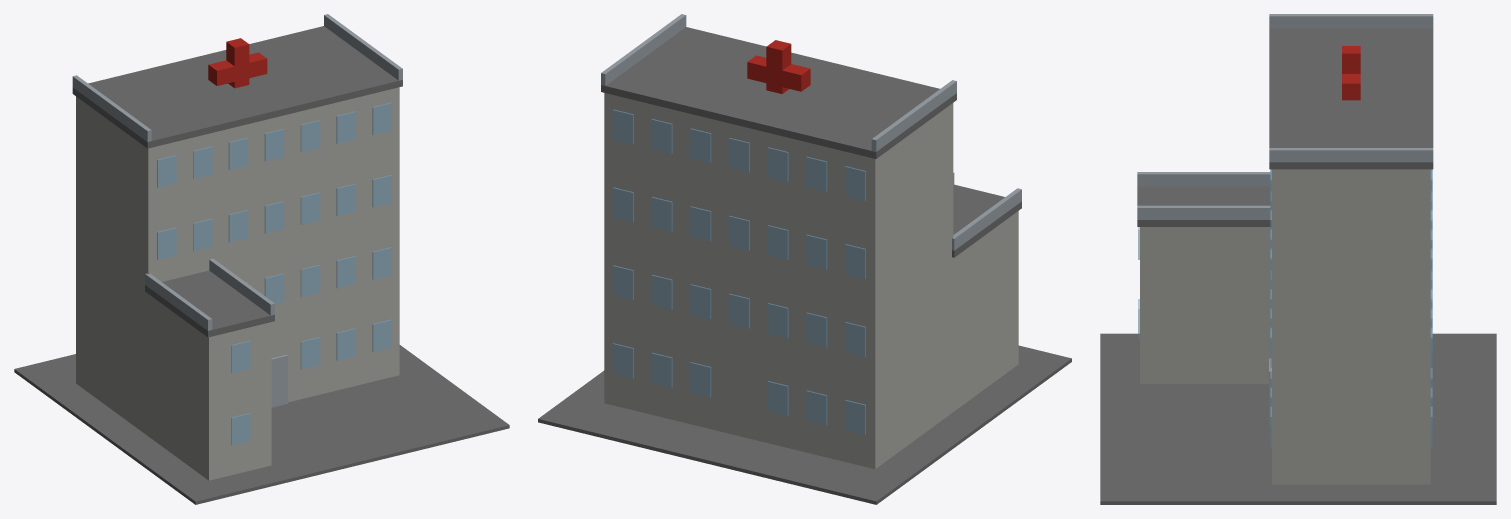
File: bld_special_hospital_a06.glb
3 renders of one model, left to right at view 1: azimuth 30°, elevation 25°; view 2: azimuth 150°, elevation 25°; view 3: azimuth 270°, elevation 25°, orthographic. The views are drawn at different scales.
Visible parts, largest first — view 1: body; view 2: body; view 3: body.
Part boxes in pixels (x1,y1,x2,y2): body: (14, 14, 509, 504); body: (538, 14, 1071, 504); body: (1100, 14, 1496, 504).
Size of what is drawn, in the model's own units: 15 by 15.5 by 15.
